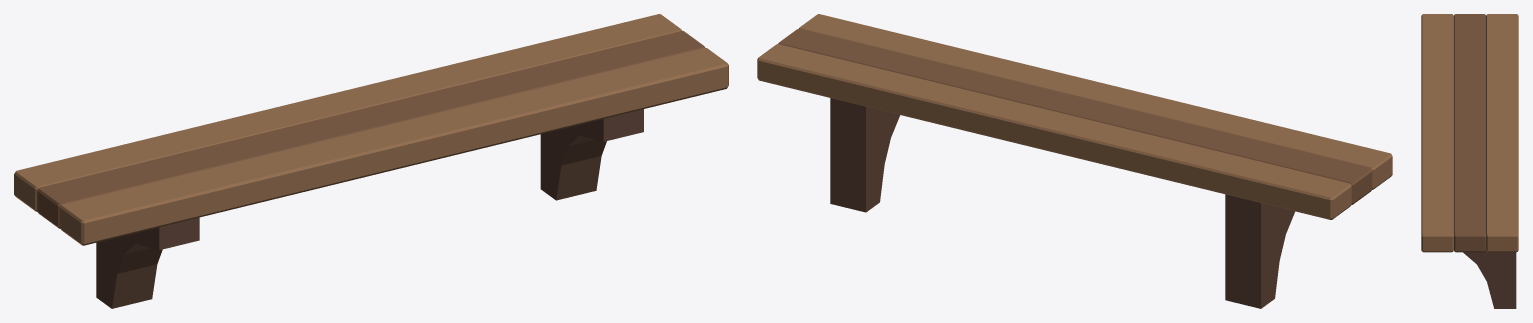
File: wall_shelf.glb
The picture shows the model from 3 angles, left to right: view 1: azimuth 30°, elevation 25°; view 2: azimuth 150°, elevation 25°; view 3: azimuth 270°, elevation 25°; orthographic projection. The views are drawn at different scales.
Parts seen in each view (by area): view 1: wall_shelf; view 2: wall_shelf; view 3: wall_shelf.
Part boxes in pixels (bbox=[...]): wall_shelf: bbox=[14, 14, 728, 308]; wall_shelf: bbox=[757, 14, 1392, 308]; wall_shelf: bbox=[1421, 14, 1518, 308].
Bounding box in the file's own units: 1.4 × 0.3 × 0.26.
